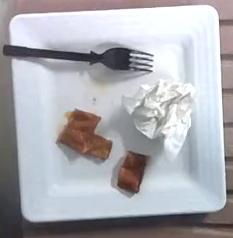pizza_crust: (58, 109, 112, 160), (118, 151, 146, 193)
